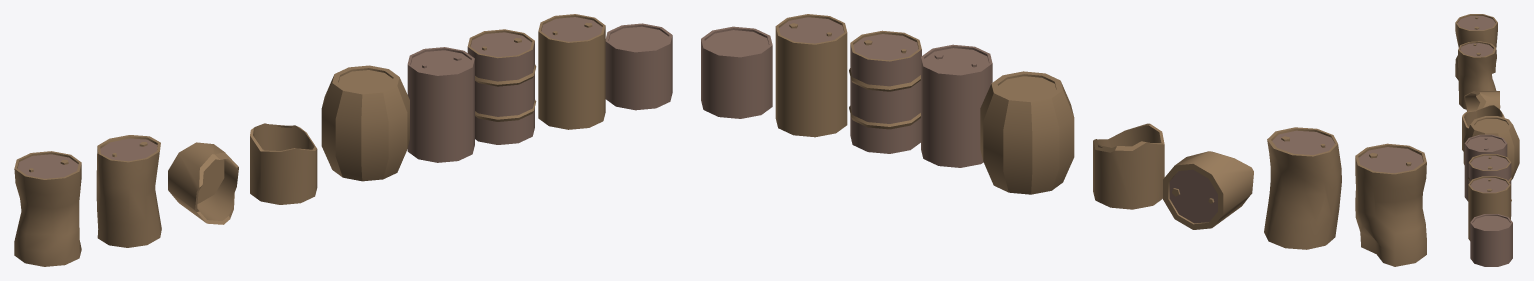
The model's file is barrels_1.fbx.
3 renders of one model, left to right at view 1: azimuth 30°, elevation 25°; view 2: azimuth 150°, elevation 25°; view 3: azimuth 270°, elevation 25°, orthographic. The views are drawn at different scales.
Visible parts, largest first — view 1: barrel_05, barrel_02, barrel_04, barrel_09, barrel_03, barrel_08, barrel_01, barrel_06, barrel_07; view 2: barrel_05, barrel_02, barrel_08, barrel_03, barrel_09, barrel_04, barrel_01, barrel_07, barrel_06; view 3: barrel_01, barrel_08, barrel_02, barrel_05, barrel_09, barrel_04, barrel_03, barrel_07, barrel_06.
Boxes of the visible parts, <box> form: barrel_05: <box>321,65,409,181</box>; barrel_02: <box>538,14,605,129</box>; barrel_04: <box>407,47,474,162</box>; barrel_09: <box>14,151,81,266</box>; barrel_03: <box>467,29,536,144</box>; barrel_08: <box>96,135,161,247</box>; barrel_01: <box>605,23,672,110</box>; barrel_06: <box>250,123,317,204</box>; barrel_07: <box>168,142,238,224</box>; barrel_05: <box>980,71,1074,194</box>; barrel_02: <box>775,14,847,137</box>; barrel_08: <box>1264,127,1341,249</box>; barrel_03: <box>849,30,921,153</box>; barrel_09: <box>1355,143,1426,266</box>; barrel_04: <box>921,44,992,167</box>; barrel_01: <box>701,26,772,118</box>; barrel_07: <box>1163,151,1253,229</box>; barrel_06: <box>1093,123,1164,209</box>; barrel_01: <box>1470,214,1512,266</box>; barrel_08: <box>1458,41,1496,109</box>; barrel_02: <box>1468,176,1510,240</box>; barrel_05: <box>1463,116,1519,180</box>; barrel_09: <box>1455,14,1497,80</box>; barrel_04: <box>1464,134,1507,201</box>; barrel_03: <box>1468,154,1511,216</box>; barrel_07: <box>1464,91,1500,111</box>; barrel_06: <box>1462,105,1504,151</box>.
Bounding box in the file's own units: 23.78 × 3.27 × 3.24.
